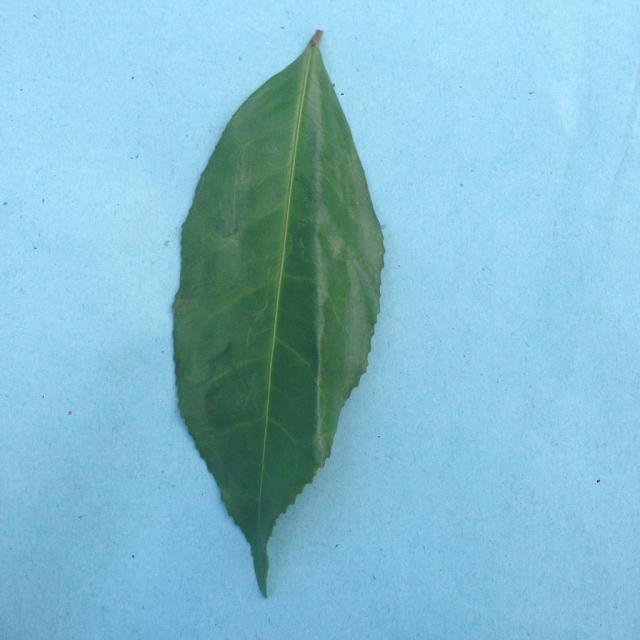Healthy: (142, 17, 446, 609)
